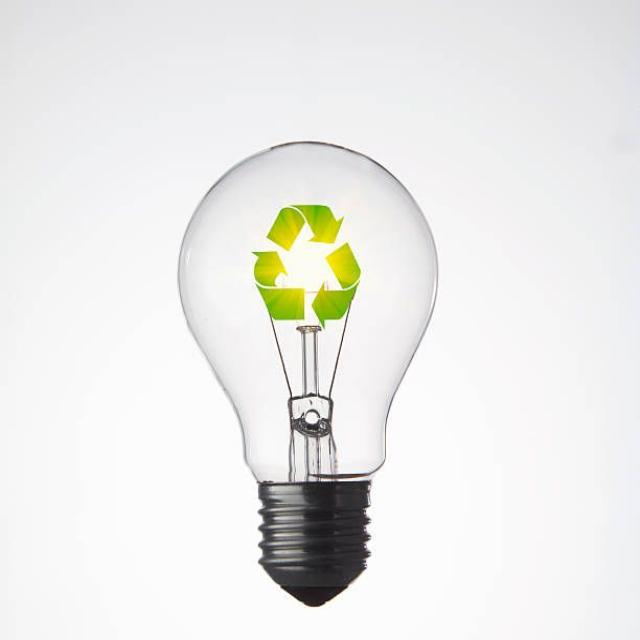electronic: (176, 138, 439, 606)
